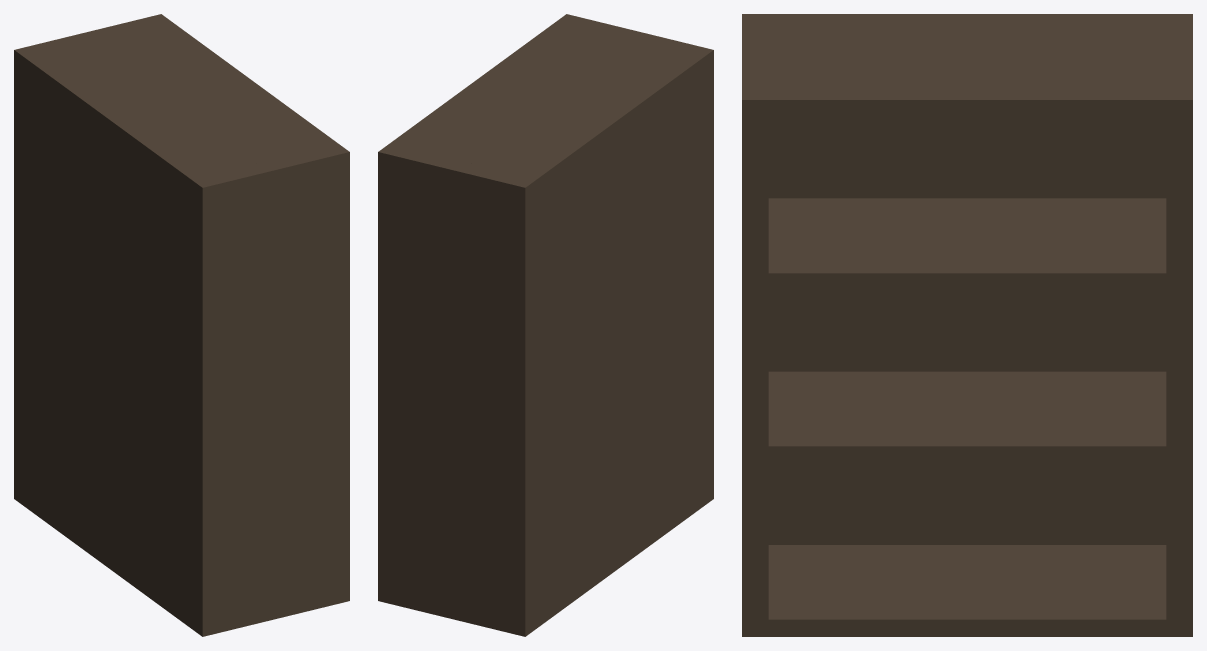
Rendered from Shelf.fbx.
3 renders of one model, left to right at view 1: azimuth 30°, elevation 25°; view 2: azimuth 150°, elevation 25°; view 3: azimuth 270°, elevation 25°, orthographic. The views are drawn at different scales.
Parts seen in each view (by area): view 1: Cube.003; view 2: Cube.003; view 3: Cube.003.
Part boxes in pixels (x1,y1,x2,y2): Cube.003: (14,14,349,636); Cube.003: (378,14,713,636); Cube.003: (742,14,1192,636).
Bounding box in the file's own units: 230 × 670 × 510.
